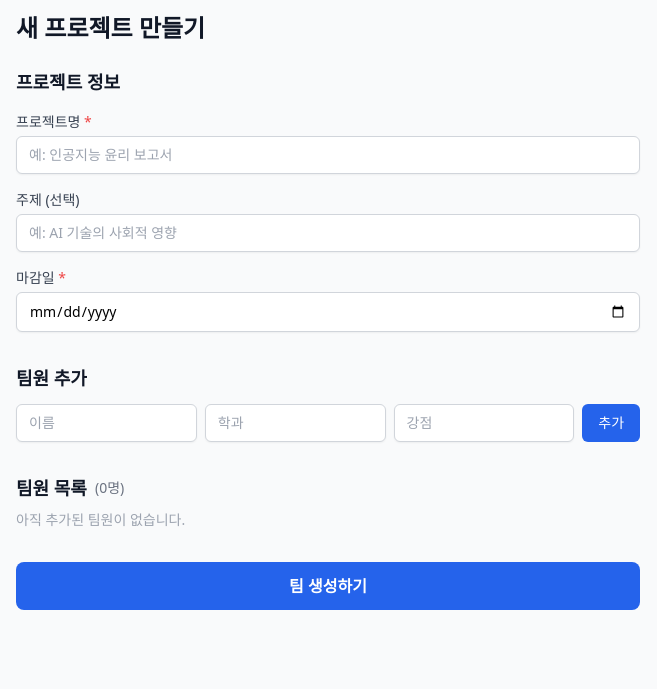
Test case: TeamCreatePage 유효성 검증 › 팀원 2명 미만일 때 제출을 차단한다
In the field labelled "프로젝트명 *": (328, 155) [16, 136, 640, 174], type "테스트 프로젝트"
In the date field labelled "마감일 *": (328, 312) [16, 292, 640, 332], type "2099-12-31"
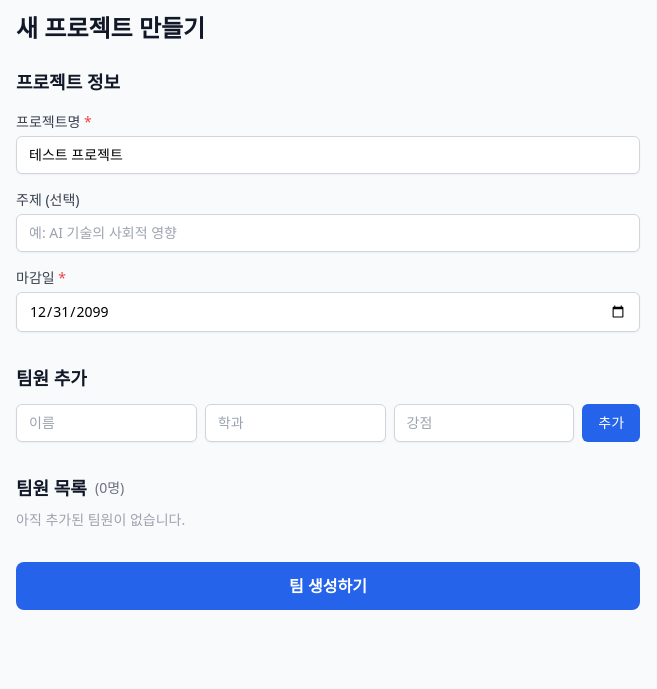
In the field named "팀원 이름": (106, 423) [16, 404, 197, 442], type "김철수"
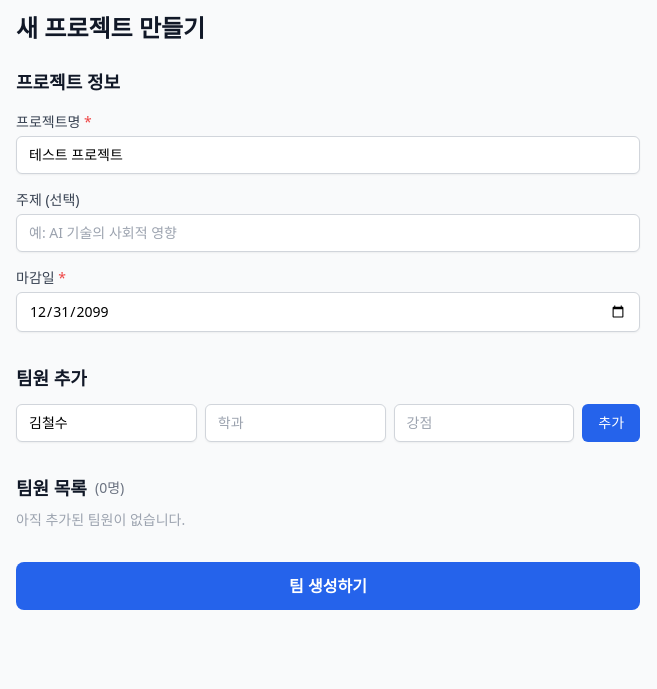
In the field named "팀원 학과": (295, 423) [205, 404, 386, 442], type "컴퓨터공학과"
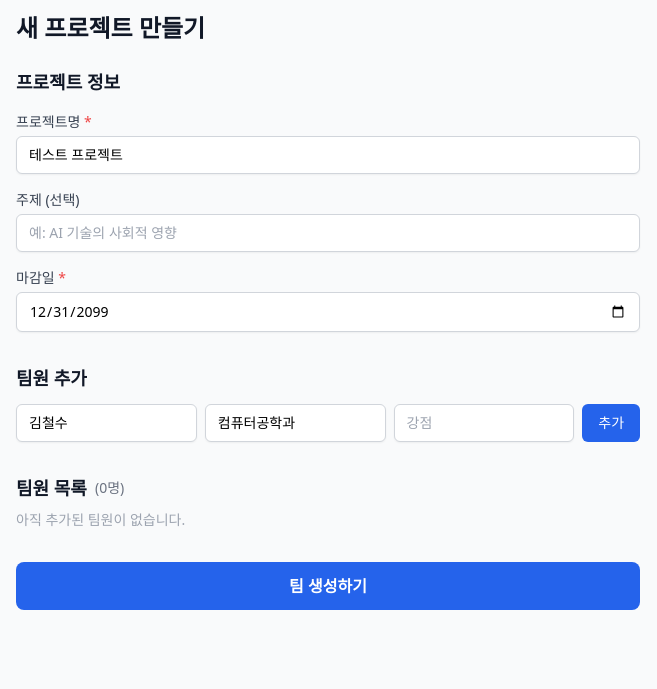
In the field named "팀원 강점": (484, 423) [394, 404, 574, 442], type "프로그래밍"
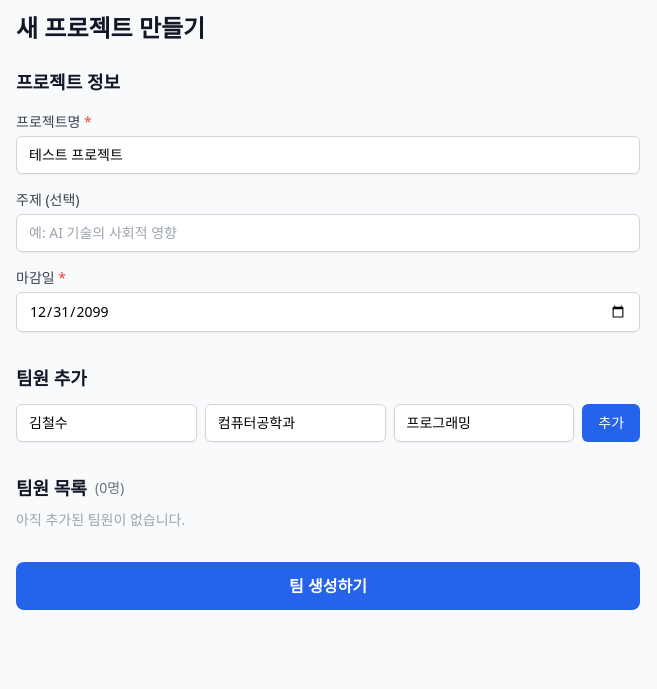
Click the button "추가": click(611, 423) [582, 404, 640, 442]
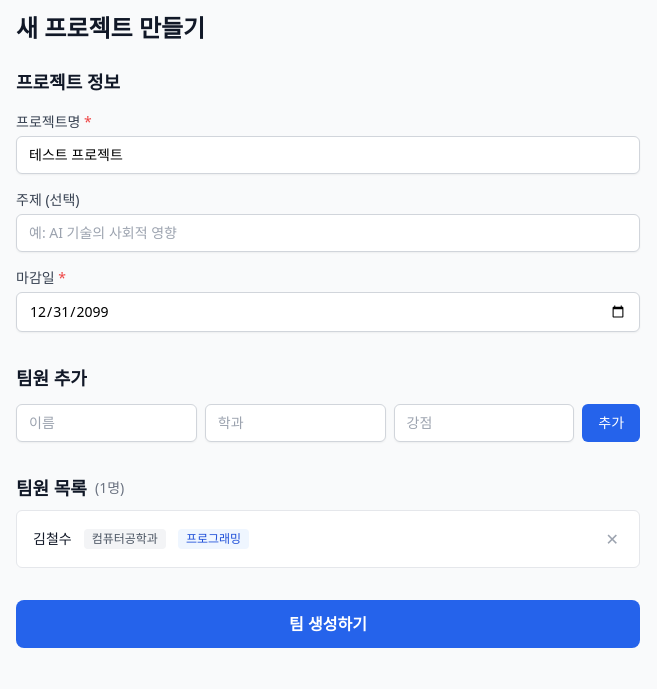
Click the button "팀 생성하기": click(328, 624) [16, 600, 640, 648]
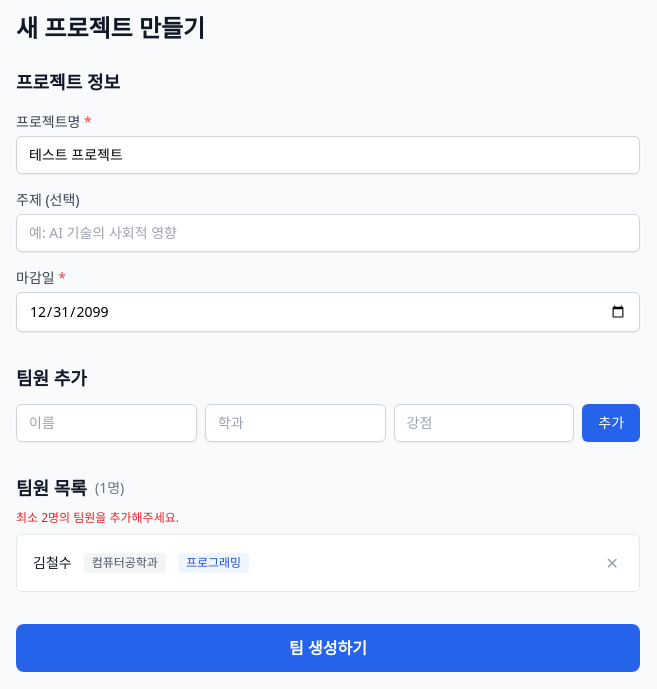
Now the text "최소 2명의 팀원을 추가해주세요." is shown, box [16, 509, 179, 526]
